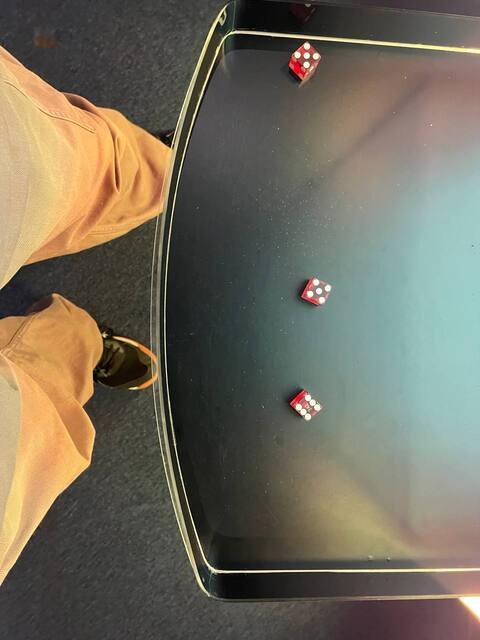five: (288, 39, 325, 76), (298, 275, 336, 307)
six: (290, 390, 325, 423)
